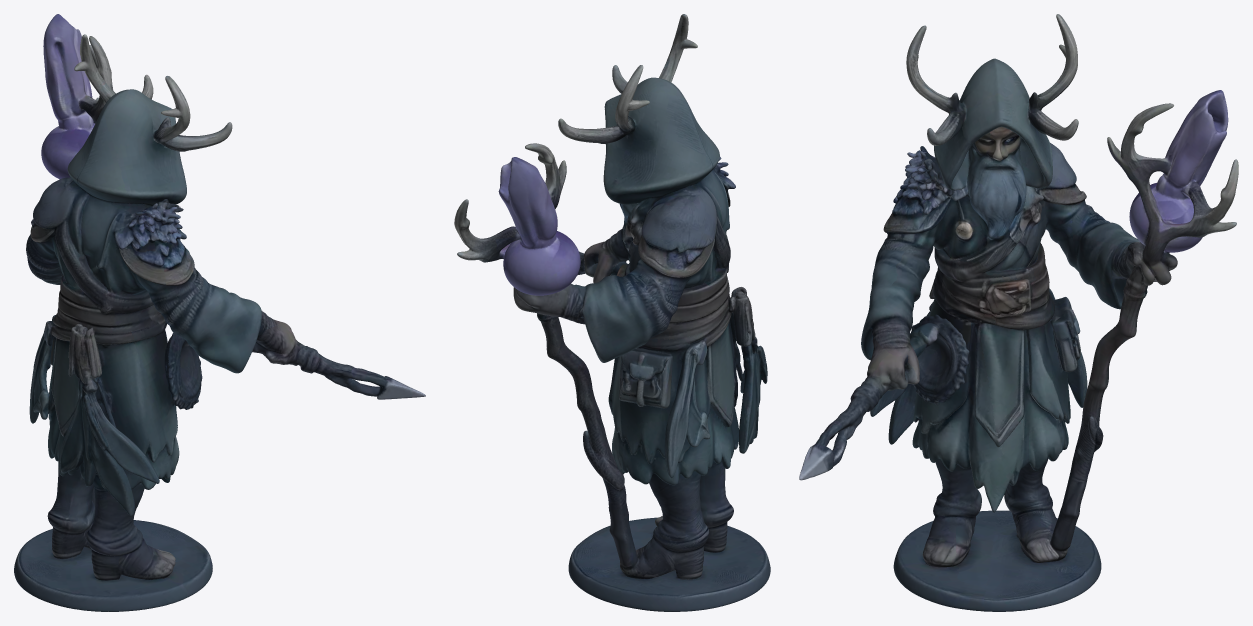
The picture shows the model from 3 angles, left to right: view 1: azimuth 30°, elevation 25°; view 2: azimuth 150°, elevation 25°; view 3: azimuth 270°, elevation 25°; orthographic projection. The views are drawn at different scales.
Parts seen in each view (by area): view 1: tripo_node_99852c75-4785-4d95-beb4-3a29af245a19; view 2: tripo_node_99852c75-4785-4d95-beb4-3a29af245a19; view 3: tripo_node_99852c75-4785-4d95-beb4-3a29af245a19.
Boxes of the visible parts, x1,y1,x2,y2 form: tripo_node_99852c75-4785-4d95-beb4-3a29af245a19: [14, 14, 425, 611]; tripo_node_99852c75-4785-4d95-beb4-3a29af245a19: [454, 14, 770, 611]; tripo_node_99852c75-4785-4d95-beb4-3a29af245a19: [799, 14, 1238, 611].
Size of the model in its own units: 0.6217 by 1 by 0.7202.
1 material, 1 textured.
